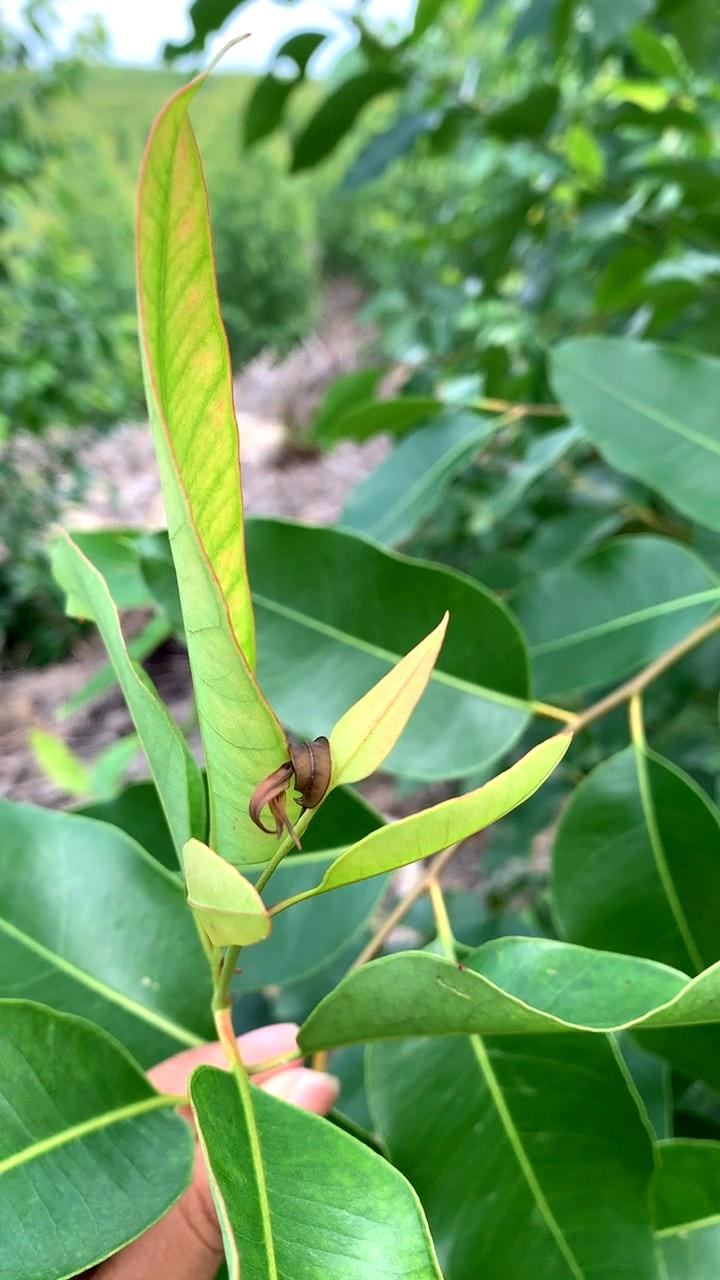Helopeltis-Withered Sprout: (241, 738, 347, 833)
